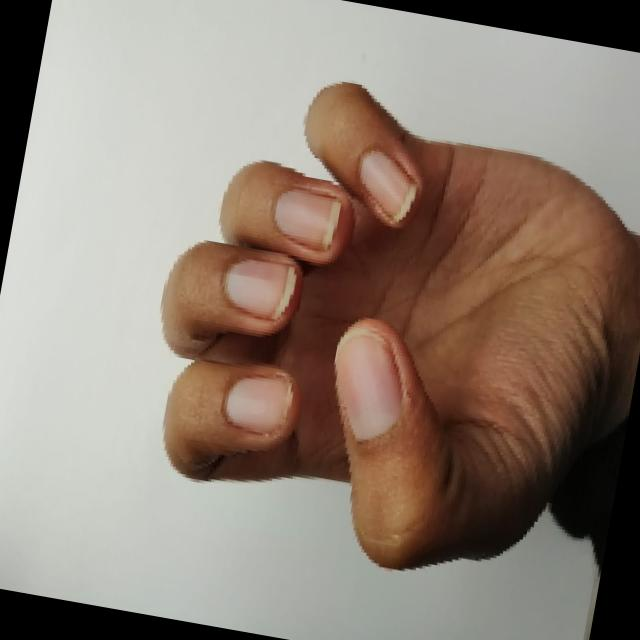Nail: (335, 323, 401, 437), (224, 258, 296, 318), (359, 149, 417, 221), (274, 188, 341, 250), (225, 376, 292, 432)
